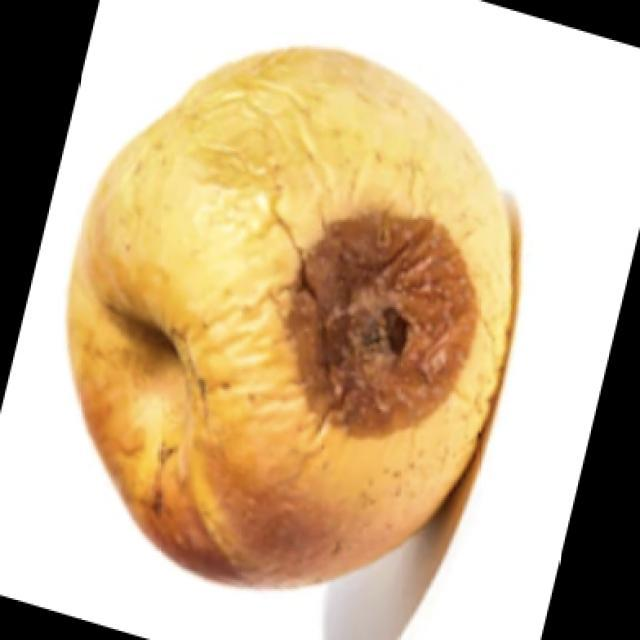Rotten: (85, 61, 545, 556)
